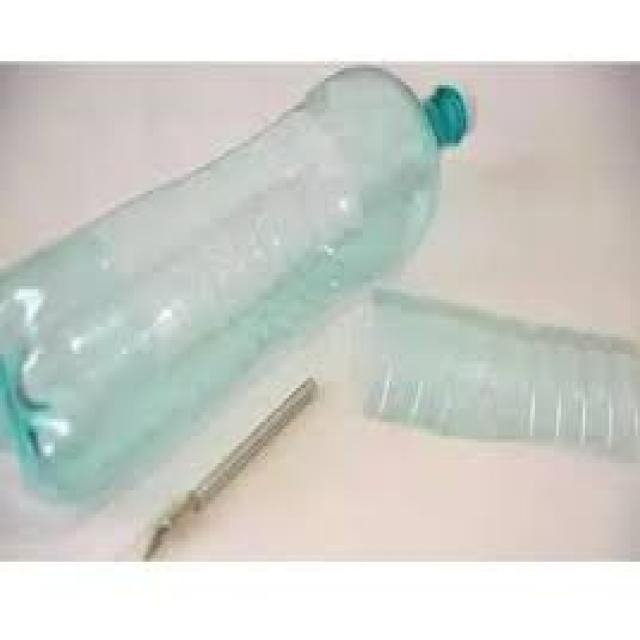Plastic: (0, 64, 476, 508), (363, 277, 638, 461)
